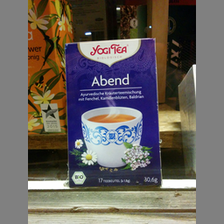tea: (65, 37, 163, 189)
